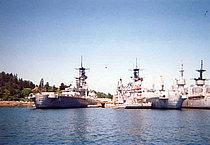Ship: (30, 61, 102, 111), (112, 68, 154, 112)
